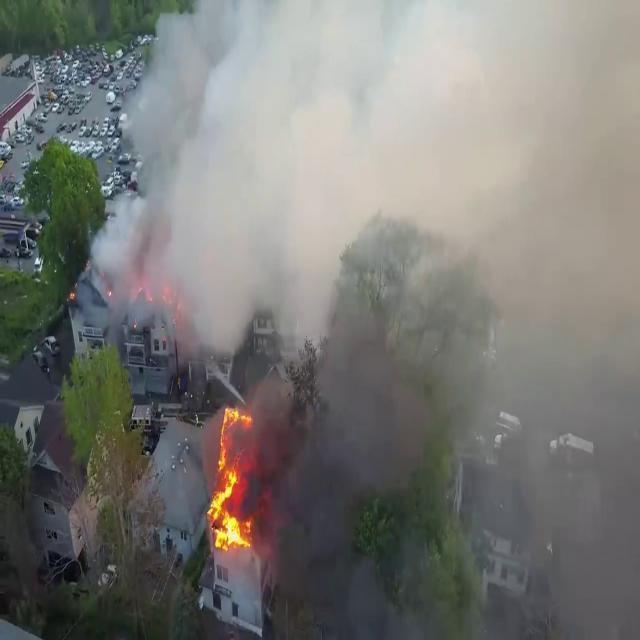Fire: (204, 400, 257, 550)
Smoke: (252, 17, 640, 639), (84, 0, 478, 372)
